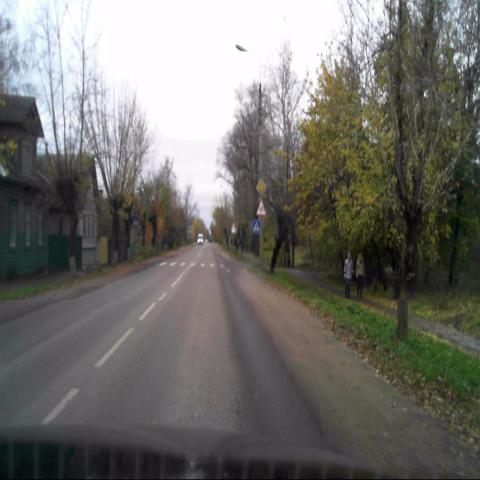1_23: (256, 198, 266, 215)
2_1: (255, 177, 266, 196)
5_19_1: (253, 218, 260, 234)
